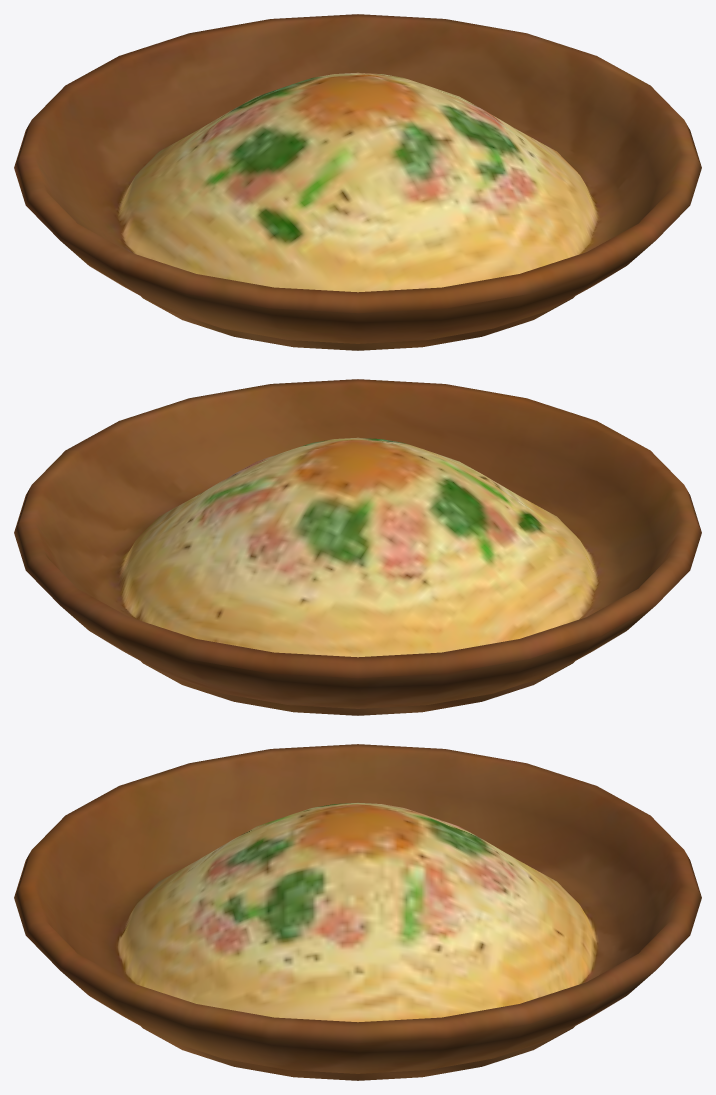
The picture shows the model from 3 angles, top to bottom: view 1: azimuth 30°, elevation 25°; view 2: azimuth 150°, elevation 25°; view 3: azimuth 270°, elevation 25°; orthographic projection.
Size of the model in its own units: 7.2 by 1.81 by 7.2.
1 material, 1 textured.
